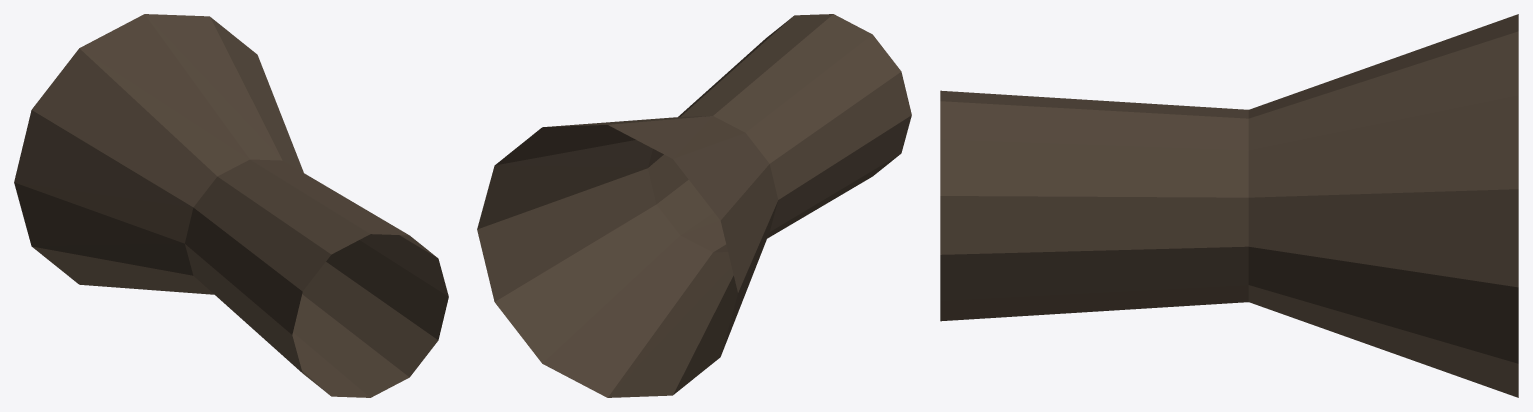
File: kit_nozzle_cold.obj
3 renders of one model, left to right at view 1: azimuth 30°, elevation 25°; view 2: azimuth 150°, elevation 25°; view 3: azimuth 270°, elevation 25°, orthographic. The views are drawn at different scales.
Parts seen in each view (by area): view 1: kit_nozzle_cold; view 2: kit_nozzle_cold; view 3: kit_nozzle_cold.
Boxes of the visible parts, box(x1,y1,x2,y2) form: kit_nozzle_cold: box(14, 14, 448, 397); kit_nozzle_cold: box(477, 14, 911, 397); kit_nozzle_cold: box(940, 14, 1518, 397).
Bounding box in the file's own units: 0.1 × 0.1 × 0.15.
